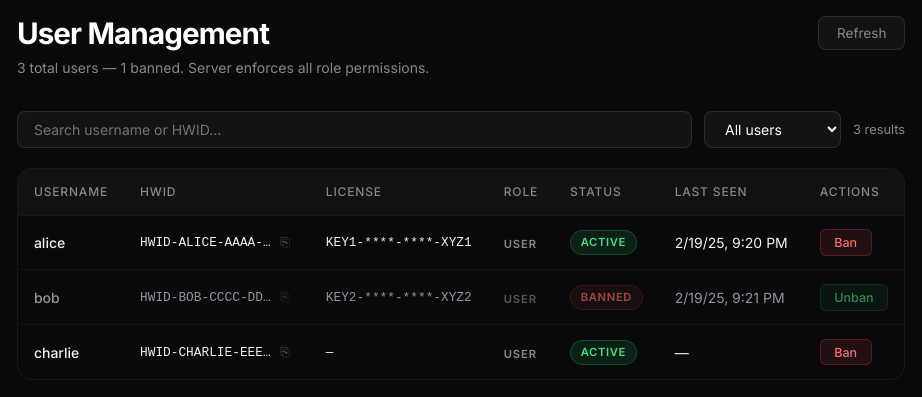
Test: AdminUsers — search › filters users by HWID prefix
expect the text "alice" is shown: met, box [18, 215, 124, 270]
In the field with placeholder "Search username or HWID…": (354, 130) [17, 112, 692, 148], type "HWID-BOB"
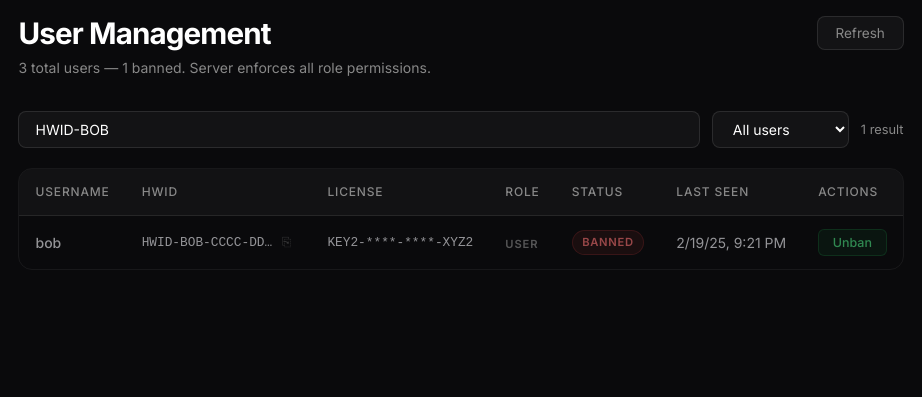
expect the text "bob" is shown: met, box [20, 215, 126, 270]
expect the text "alice" is gone: met
